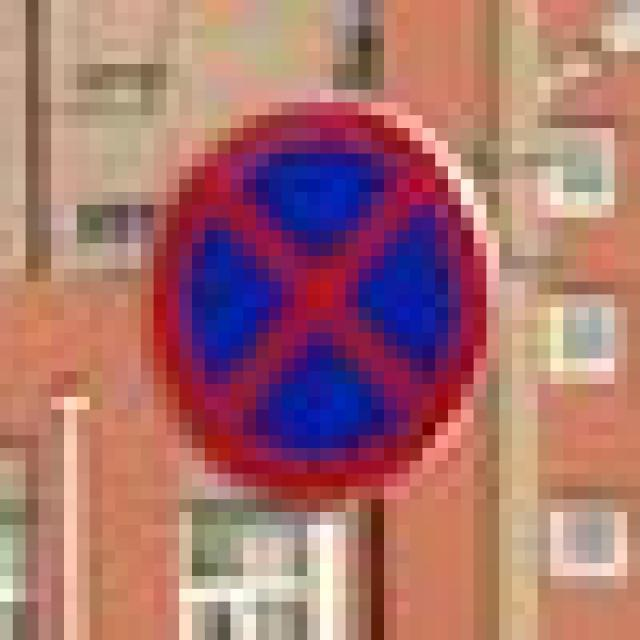no stopping or standing: (135, 96, 506, 522)
